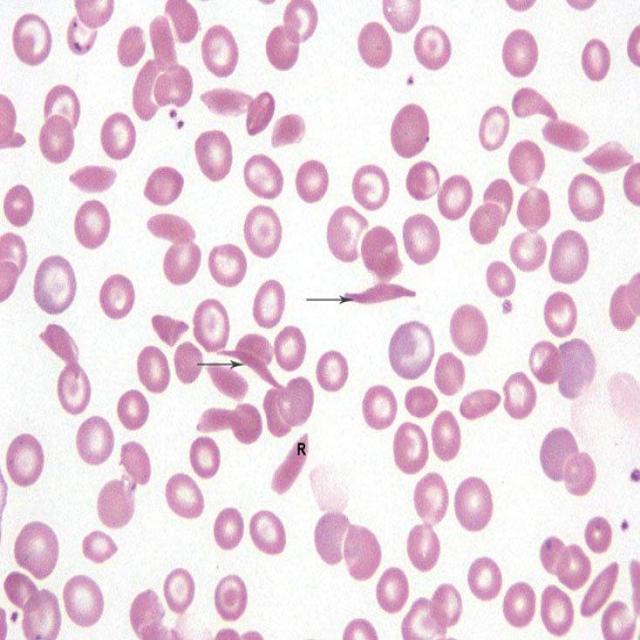sickle cell: (220, 338, 292, 402), (342, 274, 420, 329)
